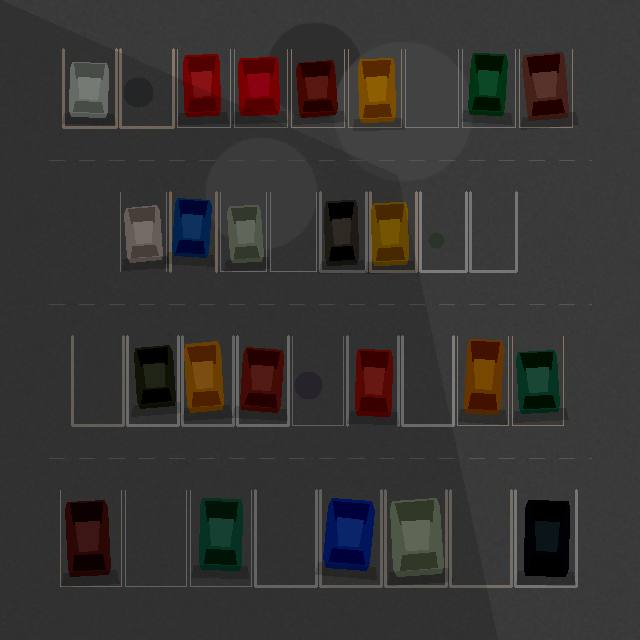space-empty: (125, 490, 186, 586), (255, 490, 316, 586), (450, 490, 511, 586), (72, 336, 123, 425), (292, 336, 343, 425), (402, 336, 453, 425), (120, 49, 173, 127), (405, 49, 458, 127), (270, 192, 316, 271), (420, 192, 466, 271), (470, 192, 516, 271)
space-occupied: (60, 490, 121, 586), (190, 490, 251, 586), (320, 490, 381, 586), (385, 490, 446, 586), (515, 490, 576, 586), (127, 336, 178, 425), (182, 336, 233, 425), (237, 336, 288, 425), (347, 336, 398, 425), (457, 336, 508, 425), (512, 336, 563, 425), (63, 49, 116, 127), (177, 49, 230, 127), (234, 49, 287, 127), (291, 49, 344, 127), (348, 49, 401, 127), (462, 49, 515, 127), (519, 49, 572, 127), (120, 192, 166, 271), (170, 192, 216, 271), (220, 192, 266, 271), (320, 192, 366, 271), (370, 192, 416, 271)
